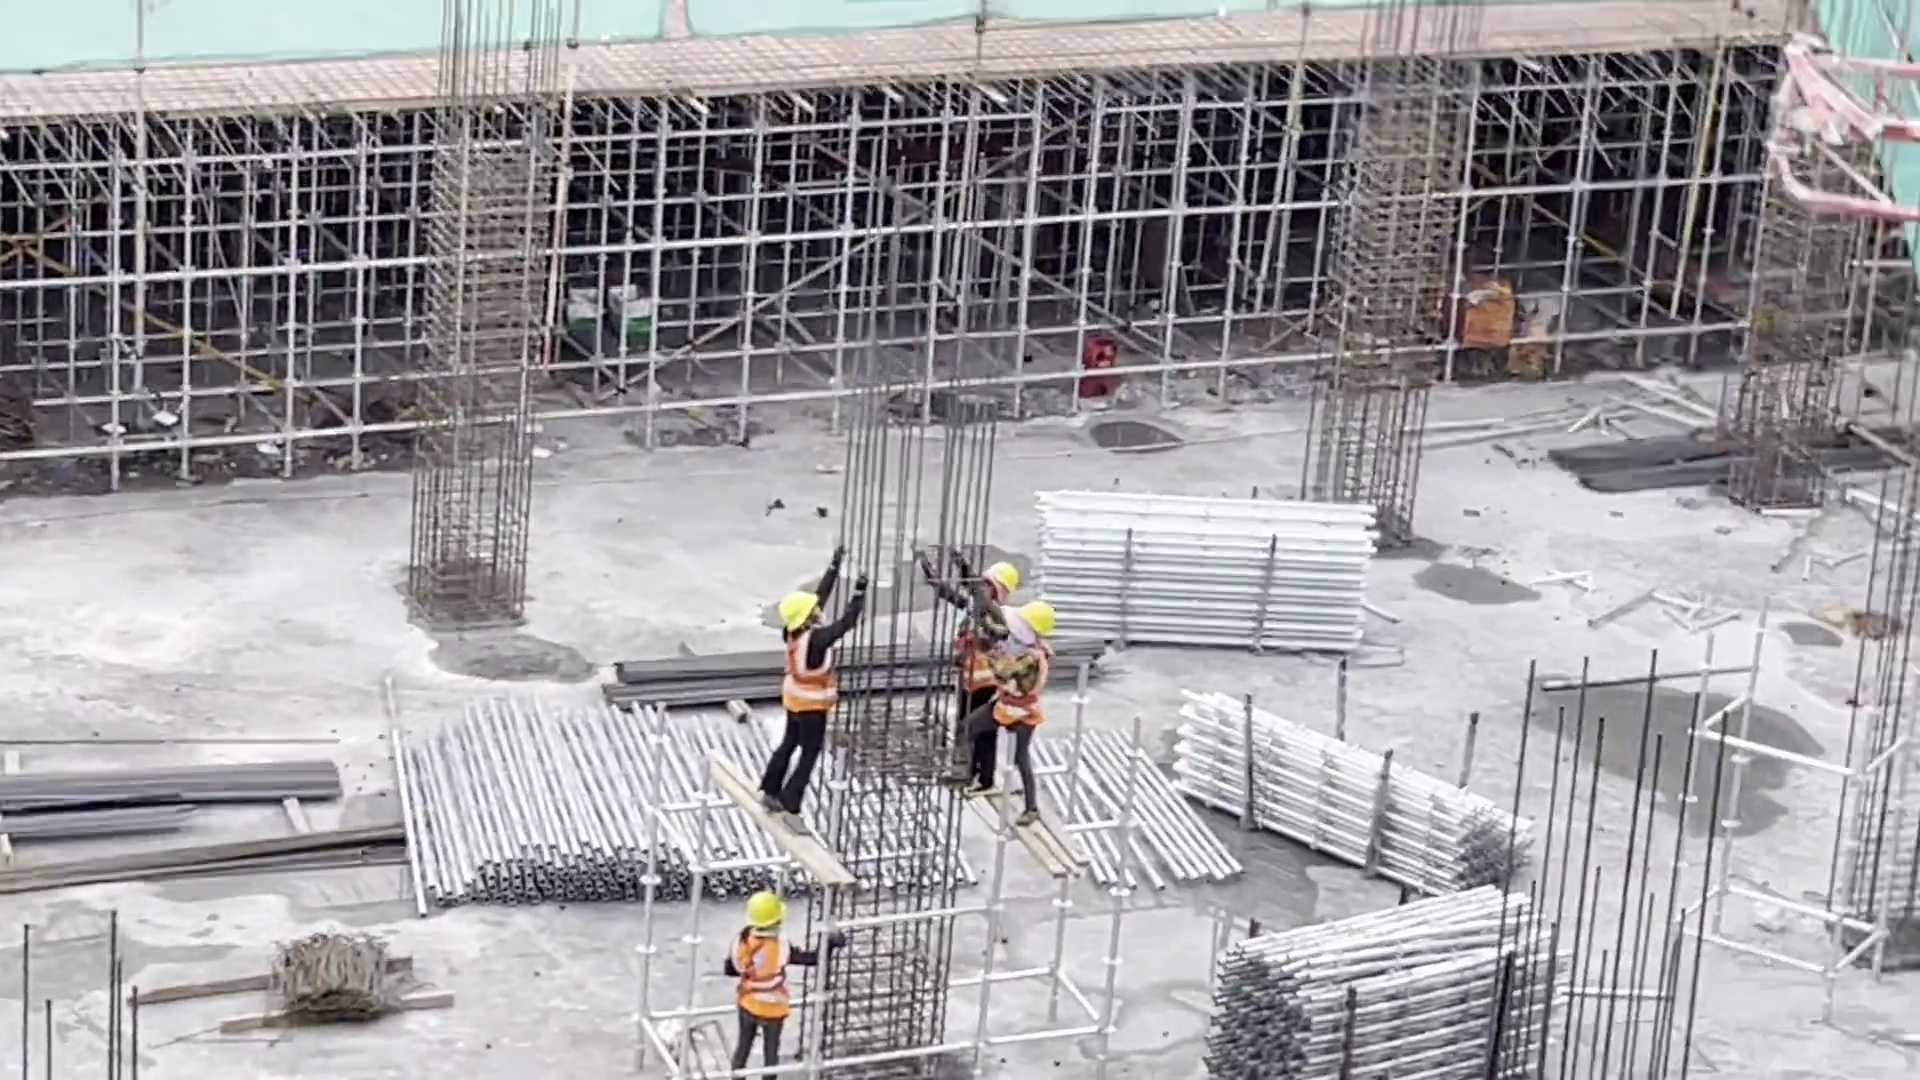helmet: (777, 589, 822, 630), (745, 886, 785, 932), (1022, 599, 1054, 640), (989, 557, 1019, 593)
person: (763, 589, 843, 839), (943, 561, 1021, 782), (726, 887, 797, 1080), (993, 594, 1049, 835)
vest: (734, 938, 792, 1038), (1001, 632, 1043, 732), (786, 623, 832, 713), (959, 598, 999, 690)
